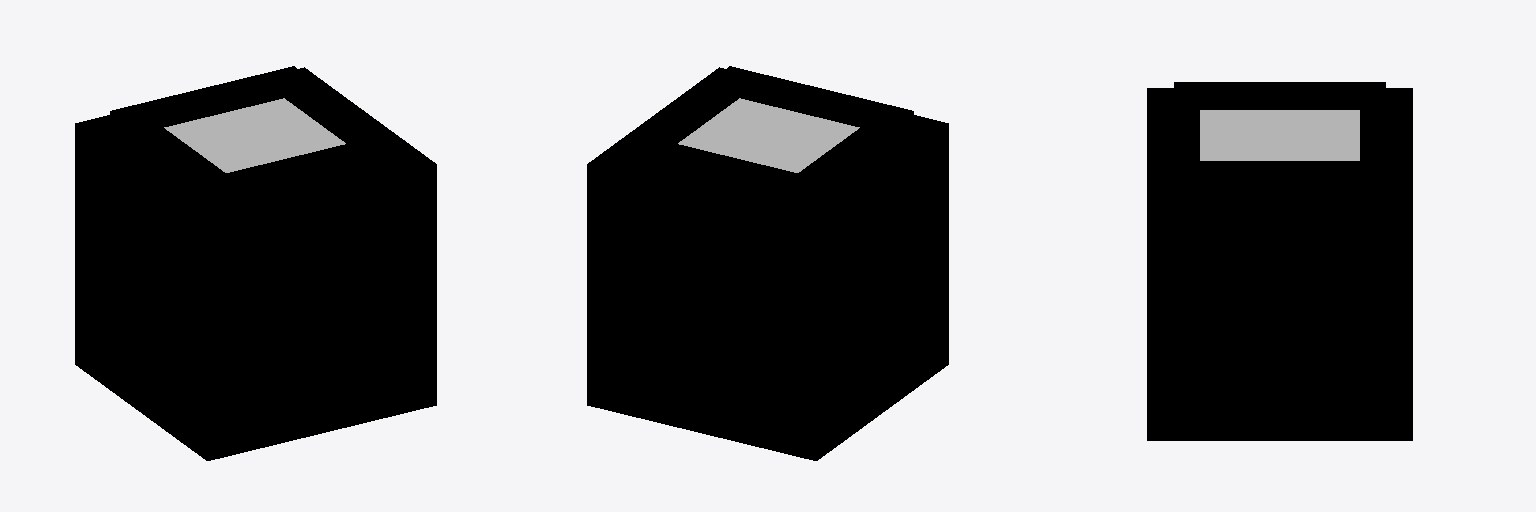
Rendered from BlackObject.obj.
3 renders of one model, left to right at view 1: azimuth 30°, elevation 25°; view 2: azimuth 150°, elevation 25°; view 3: azimuth 270°, elevation 25°, orthographic.
Parts seen in each view (by area): view 1: Cube, Cube.001; view 2: Cube, Cube.001; view 3: Cube, Cube.001.
Boxes of the visible parts, <box> form: Cube: <box>75,66,436,460</box>; Cube.001: <box>164,98,345,172</box>; Cube: <box>587,66,948,460</box>; Cube.001: <box>678,98,859,172</box>; Cube: <box>1147,82,1412,440</box>; Cube.001: <box>1200,110,1359,160</box>.
Size of the model in its own units: 2 by 2.14 by 2.